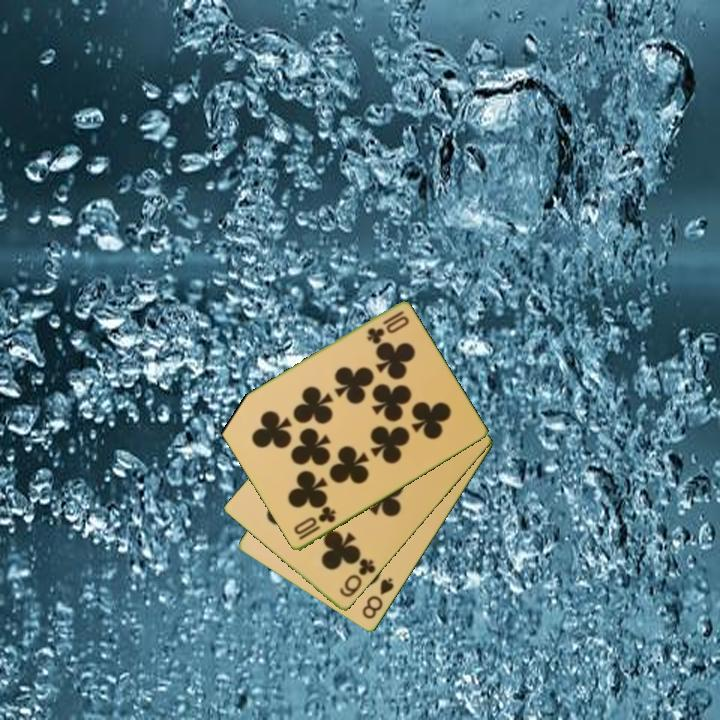10c: (290, 503, 339, 543), (363, 308, 412, 346)
6c: (336, 555, 379, 601)
8s: (358, 574, 397, 623)
